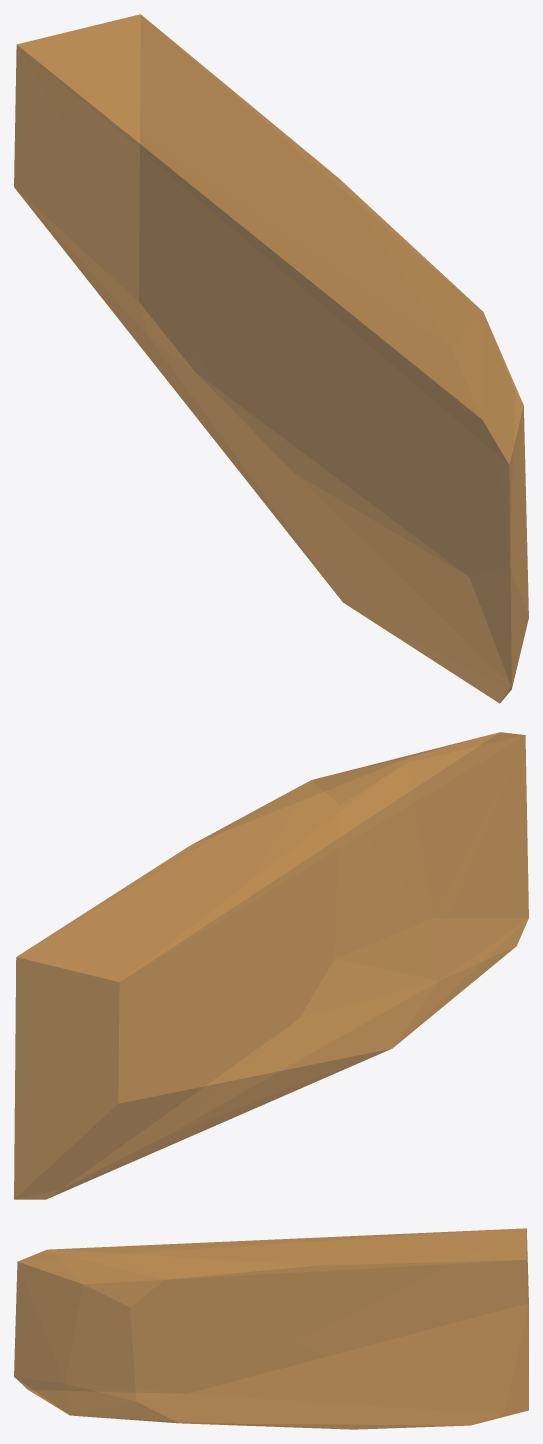
3 renders of one model, top to bottom at view 1: azimuth 30°, elevation 25°; view 2: azimuth 150°, elevation 25°; view 3: azimuth 270°, elevation 25°, orthographic. The views are drawn at different scales.
Visible parts, largest first — view 1: Shape_IndexedFaceSet.011_Shape_IndexedFaceSet.3172; view 2: Shape_IndexedFaceSet.011_Shape_IndexedFaceSet.3172; view 3: Shape_IndexedFaceSet.011_Shape_IndexedFaceSet.3172.
Boxes of the visible parts, bbox=[...] form: Shape_IndexedFaceSet.011_Shape_IndexedFaceSet.3172: bbox=[14, 14, 528, 703]; Shape_IndexedFaceSet.011_Shape_IndexedFaceSet.3172: bbox=[14, 732, 528, 1199]; Shape_IndexedFaceSet.011_Shape_IndexedFaceSet.3172: bbox=[14, 1228, 528, 1429].
Bounding box in the file's own units: 0.0418 × 0.1063 × 0.2864.
